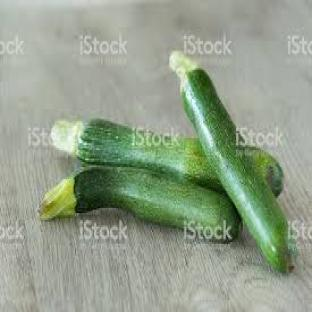Zucchini: (171, 52, 296, 272), (40, 168, 241, 242), (52, 120, 223, 190)
